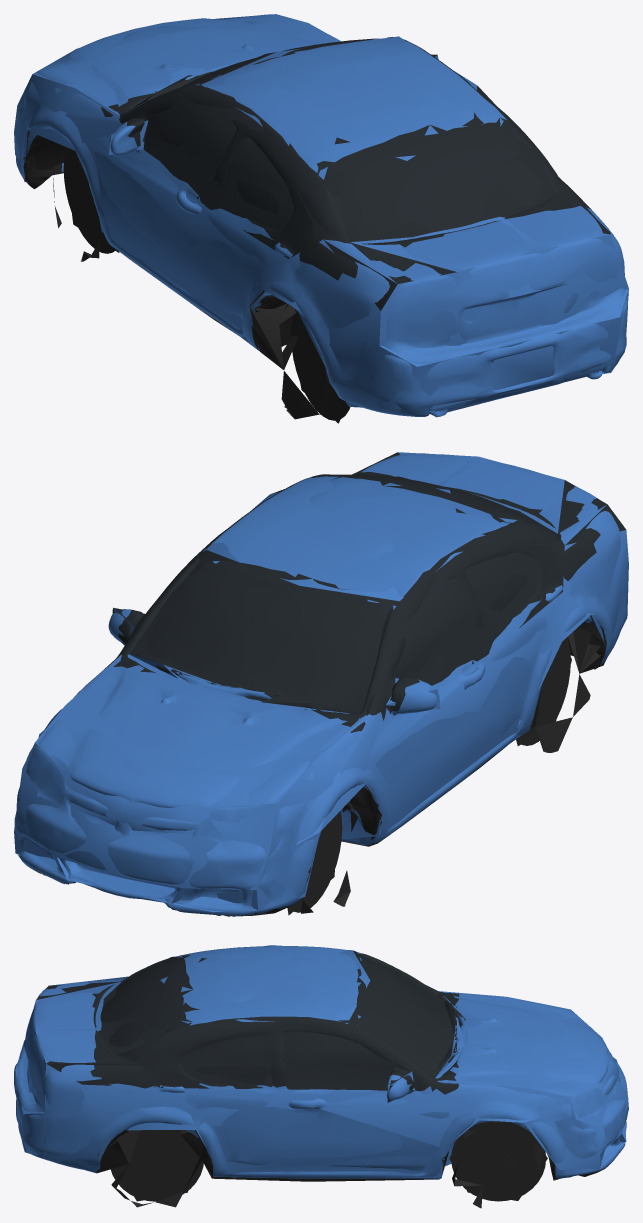
File: dodge-avenger.glb
3 views of the same model, one above another, from view 1: azimuth 30°, elevation 25°; view 2: azimuth 150°, elevation 25°; view 3: azimuth 270°, elevation 25° (orthographic). The views are drawn at different scales.
Parts seen in each view (by area): view 1: body, far; view 2: body, far; view 3: body, far.
Part boxes in pixels (left/top/right/bottom): body: left=14, top=14, right=627, bottom=420; far: left=14, top=14, right=628, bottom=423; body: left=14, top=453, right=627, bottom=916; far: left=14, top=452, right=628, bottom=915; body: left=14, top=946, right=627, bottom=1208; far: left=15, top=945, right=628, bottom=1205.
Bounding box in the file's own units: 2.28 × 1.64 × 4.87.
